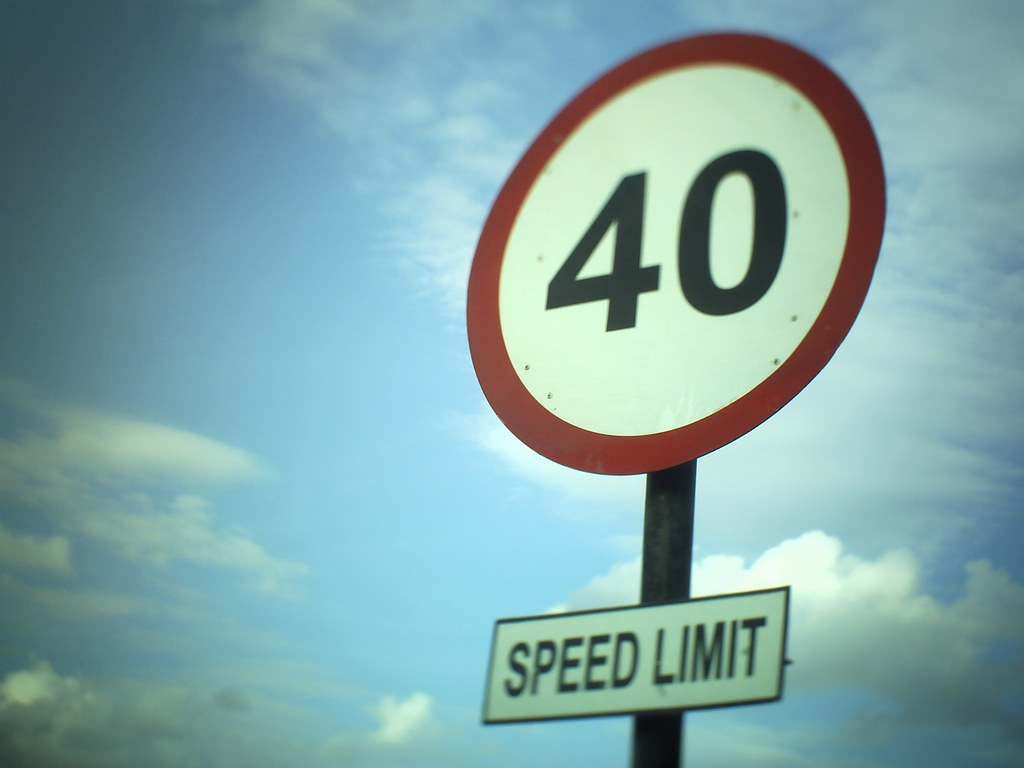40 Km/hr: (466, 32, 885, 471)
